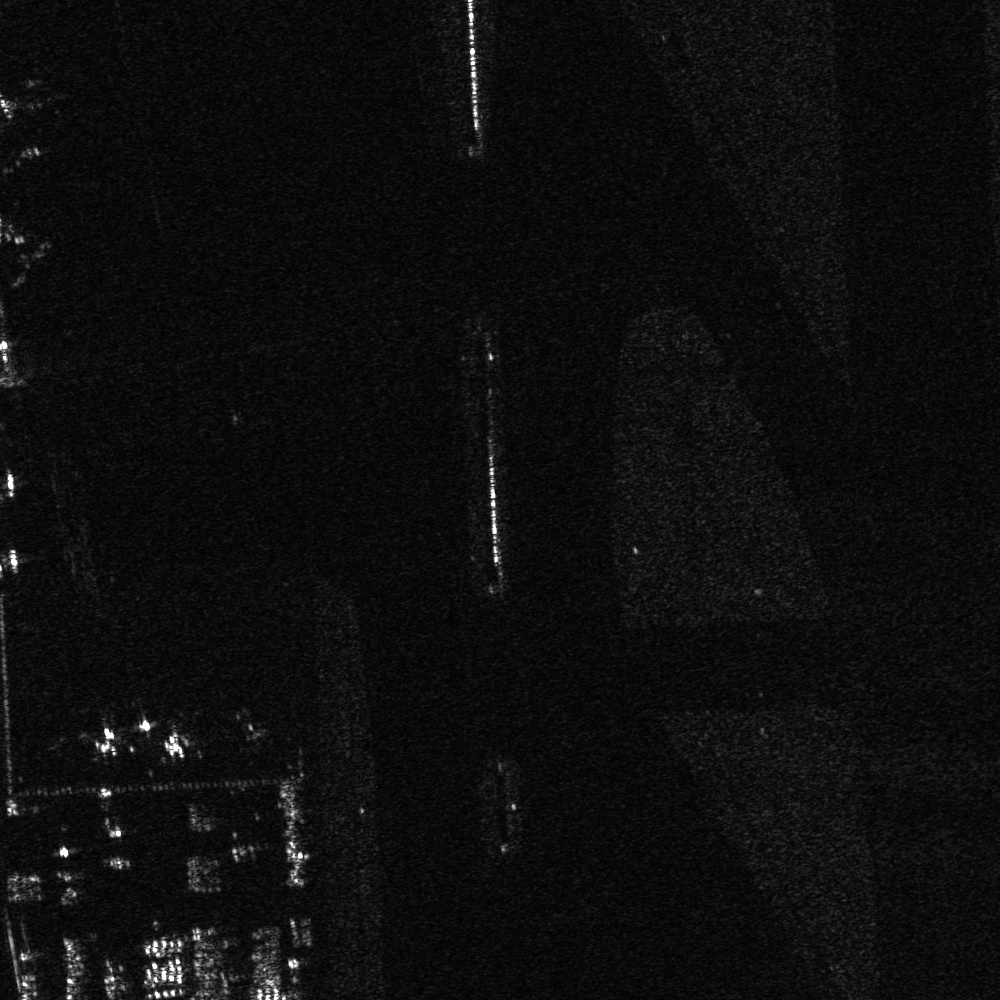ARJ21: (77, 719, 128, 765)
other: (2, 72, 83, 119), (146, 714, 199, 764)
